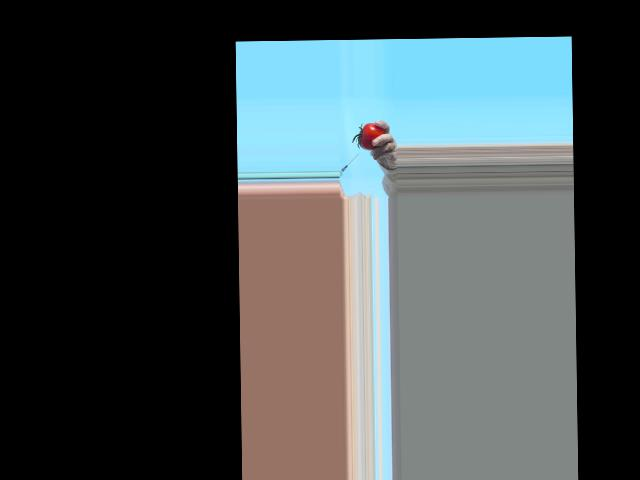tomato: (358, 122, 385, 150)
